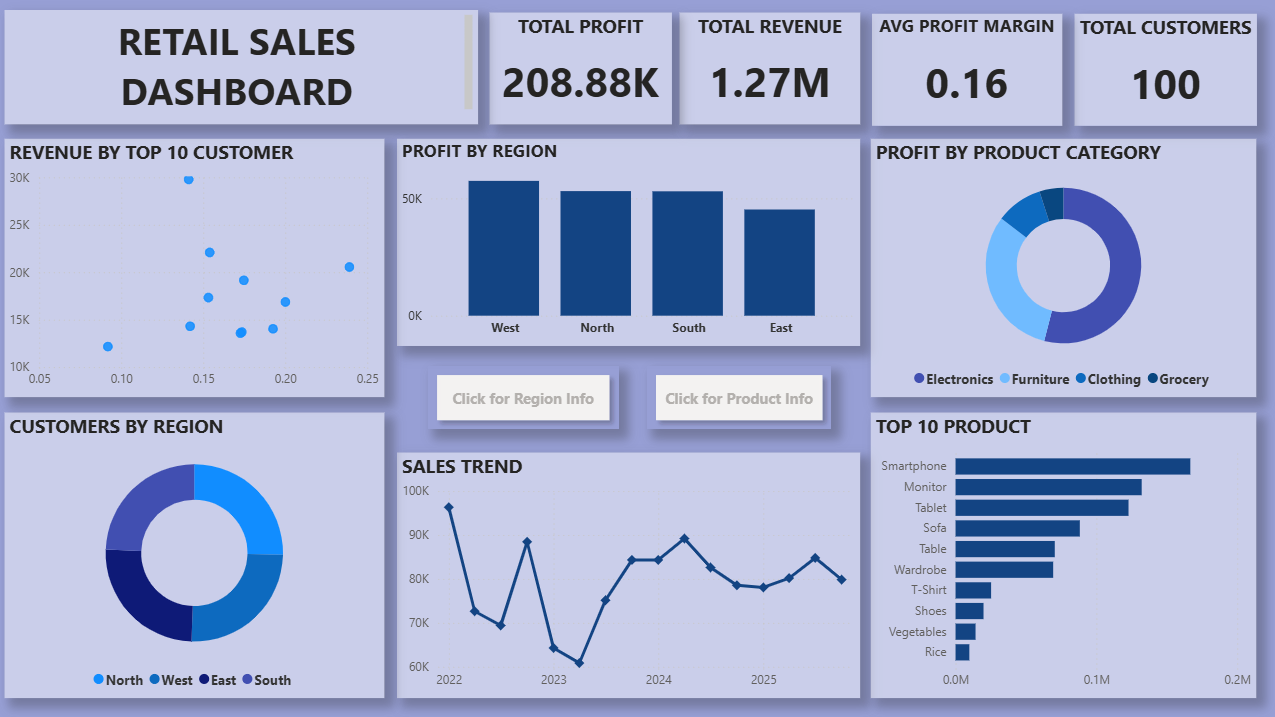

The dashboard page shown, as its layout file describes it:
{"tool":"powerbi","page":{"name":"Main Page","canvas":[1280,720],"ordinal":0},"visuals":[{"type":"card","title":"TOTAL REVENUE","fields":{"Values":["Retail_Sales_Finance.Revenue"]},"box":[682.2,12.2,181.1,112.2],"z":0},{"type":"card","title":"TOTAL PROFIT","fields":{"Values":["Retail_Sales_Finance.Total Profit"]},"box":[492.2,12.2,182.2,112.2],"z":1000},{"type":"card","title":"TOTAL CUSTOMERS","fields":{"Values":["Retail_Sales_Finance.Total Customers"]},"box":[1077.8,13.3,182.2,112.2],"z":2000},{"type":"card","title":"AVG PROFIT MARGIN","fields":{"Values":["Retail_Sales_Finance.Profit Margin"]},"box":[874.4,13.3,190,112.2],"z":3000},{"type":"textbox","box":[7.8,10,473.3,114.4],"z":4000},{"type":"columnChart","title":"PROFIT BY REGION","fields":{"Category":["Retail_Sales_Finance.Region"],"Y":["Sum(Retail_Sales_Finance.Profit)"]},"box":[400,138.6,462.9,207.1],"z":5000},{"type":"donutChart","title":"PROFIT BY PRODUCT CATEGORY","fields":{"Y":["Sum(Retail_Sales_Finance.Profit)"],"Category":["Retail_Sales_Finance.Product_Category"]},"box":[874.3,138.6,385.7,258.6],"z":6000},{"type":"lineChart","title":"SALES TREND","fields":{"Y":["Sum(Retail_Sales_Finance.Total_Amount)"],"Category":["Retail_Sales_Finance.Date.Variation.Date Hierarchy.Year","Retail_Sales_Finance.Date.Variation.Date Hierarchy.Quarter","Retail_Sales_Finance.Date.Variation.Date Hierarchy.Month","Retail_Sales_Finance.Date.Variation.Date Hierarchy.Day"]},"box":[400,452.9,462.9,245.7],"z":7000},{"type":"scatterChart","title":"REVENUE BY TOP 10 CUSTOMER","fields":{"Category":["Retail_Sales_Finance.Customer_ID"],"Y":["Retail_Sales_Finance.Revenue"],"X":["Retail_Sales_Finance.Profit Margin"]},"box":[7.1,138.6,380,258.6],"z":8000},{"type":"clusteredBarChart","title":"TOP 10 PRODUCT","fields":{"Category":["Retail_Sales_Finance.Product_Name"],"Y":["Sum(Retail_Sales_Finance.Total_Amount)"]},"box":[874.3,412.9,385.7,285.7],"z":9000},{"type":"donutChart","title":"CUSTOMERS BY REGION","fields":{"Y":["CountNonNull(Retail_Sales_Finance.Customer_ID)"],"Category":["Retail_Sales_Finance.Region"]},"box":[7.1,412.9,380,285.7],"z":10000},{"type":"actionButton","box":[431.4,365.7,190,62.9],"z":11000},{"type":"actionButton","title":"Click for Product info","box":[650,365.7,184.3,62.9],"z":12000}]}

Visuals, with their boxes in screenshot pixels (x1, y1, x2, y2), scaled from the page's 1280x720 canvas onto the 1275x717 screenshot:
"TOTAL REVENUE" card: bbox=(680, 12, 860, 124)
"TOTAL PROFIT" card: bbox=(490, 12, 672, 124)
"TOTAL CUSTOMERS" card: bbox=(1074, 13, 1255, 125)
"AVG PROFIT MARGIN" card: bbox=(871, 13, 1060, 125)
textbox: bbox=(8, 10, 479, 124)
"PROFIT BY REGION" columnChart: bbox=(398, 138, 860, 344)
"PROFIT BY PRODUCT CATEGORY" donutChart: bbox=(871, 138, 1255, 396)
"SALES TREND" lineChart: bbox=(398, 451, 860, 696)
"REVENUE BY TOP 10 CUSTOMER" scatterChart: bbox=(7, 138, 386, 396)
"TOP 10 PRODUCT" clusteredBarChart: bbox=(871, 411, 1255, 696)
"CUSTOMERS BY REGION" donutChart: bbox=(7, 411, 386, 696)
actionButton: bbox=(430, 364, 619, 427)
"Click for Product info" actionButton: bbox=(647, 364, 831, 427)
